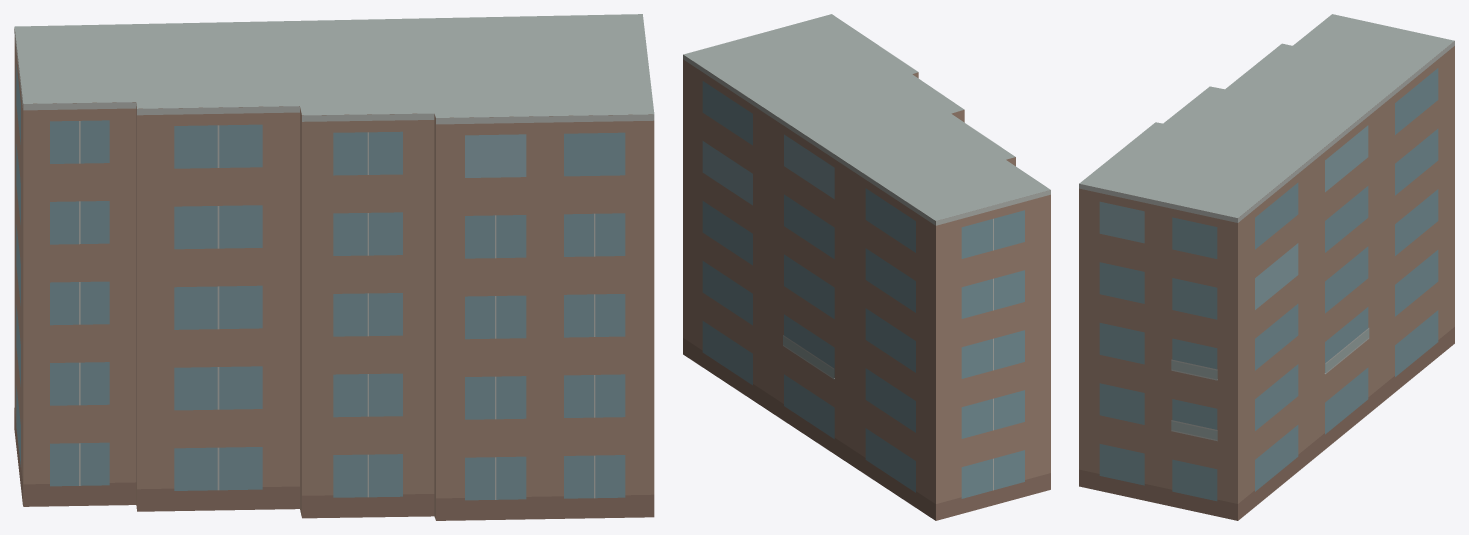
Rendered from survey-upis-32554877.glb.
The picture shows the model from 3 angles, left to right: view 1: azimuth 30°, elevation 25°; view 2: azimuth 150°, elevation 25°; view 3: azimuth 270°, elevation 25°; orthographic projection. The views are drawn at different scales.
Visible parts, largest first — view 1: survey-upis-32554877.tmp; view 2: survey-upis-32554877.tmp; view 3: survey-upis-32554877.tmp.
Part boxes in pixels (x1,y1,x2,y2): survey-upis-32554877.tmp: (14, 14, 654, 520); survey-upis-32554877.tmp: (683, 14, 1050, 520); survey-upis-32554877.tmp: (1079, 14, 1454, 520).
Bounding box in the file's own units: 22.07 × 15.25 × 17.17.
